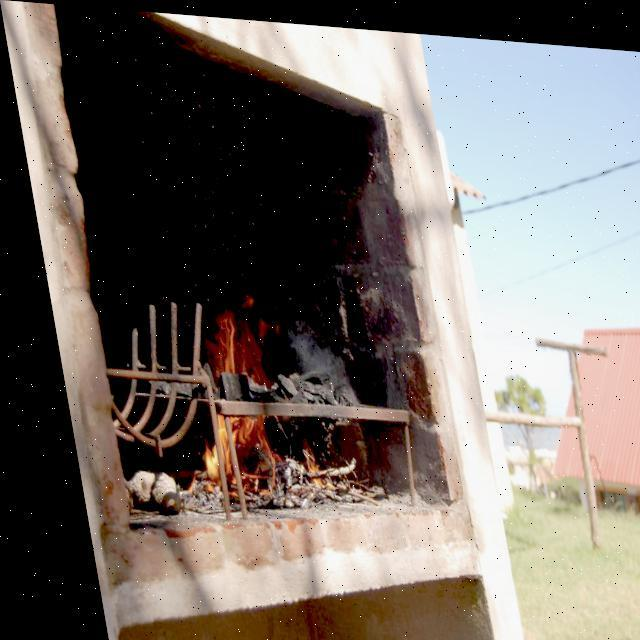Fire: (155, 309, 265, 501)
